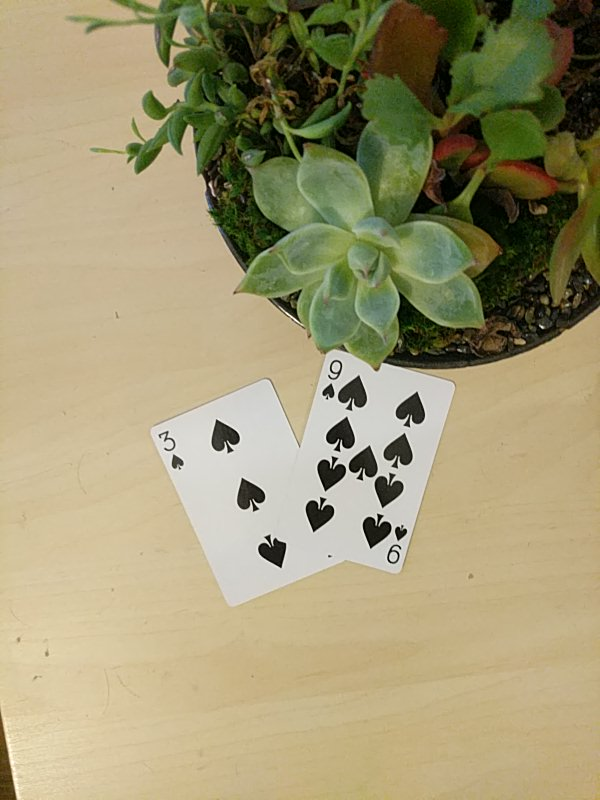Spades: (149, 378, 346, 605), (274, 350, 455, 574)
